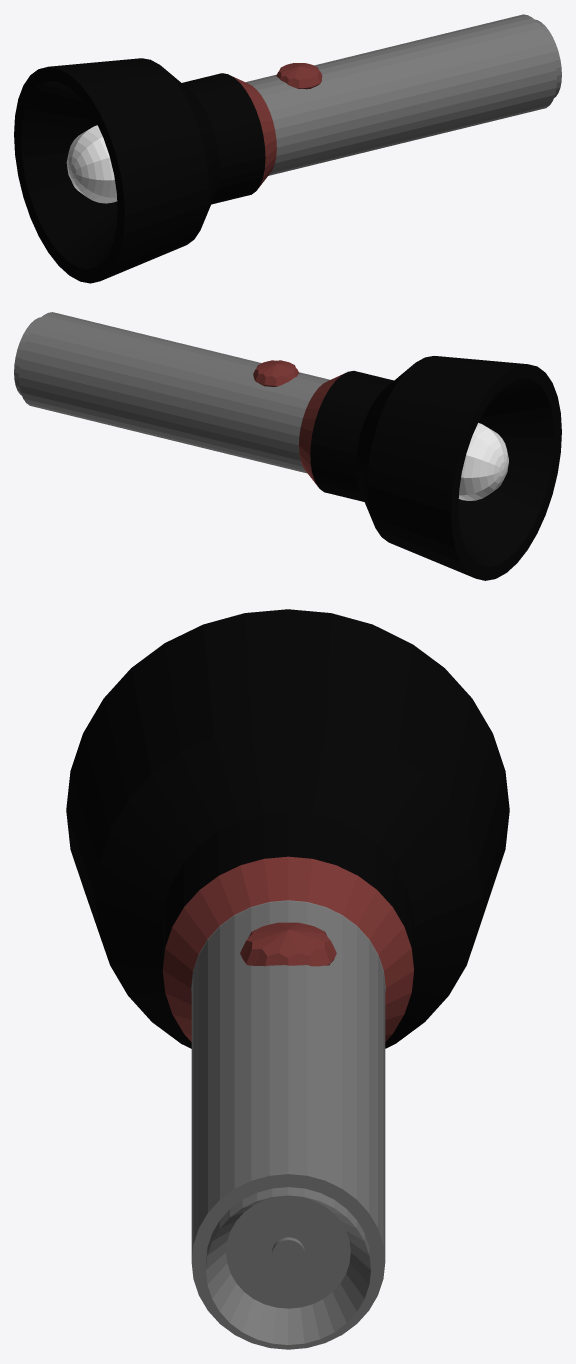
Rendered from Flashlight.fbx.
The picture shows the model from 3 angles, top to bottom: view 1: azimuth 30°, elevation 25°; view 2: azimuth 150°, elevation 25°; view 3: azimuth 270°, elevation 25°; orthographic projection. The views are drawn at different scales.
Visible parts, largest first — view 1: Flashlight Lens, Flashlight Body, Flashlight Bulb, Flashlight Connector, Indicator Button; view 2: Flashlight Lens, Flashlight Body, Flashlight Bulb, Flashlight Connector, Indicator Button; view 3: Flashlight Lens, Flashlight Body, Flashlight Connector, Indicator Button.
Boxes of the visible parts, bbox=[...] form: Flashlight Lens: bbox=[14, 58, 265, 283]; Flashlight Body: bbox=[246, 14, 561, 175]; Flashlight Bulb: bbox=[66, 125, 117, 203]; Flashlight Connector: bbox=[232, 76, 276, 189]; Indicator Button: bbox=[276, 63, 322, 89]; Flashlight Lens: bbox=[310, 356, 561, 580]; Flashlight Body: bbox=[14, 312, 329, 473]; Flashlight Bulb: bbox=[458, 423, 508, 500]; Flashlight Connector: bbox=[299, 373, 344, 486]; Indicator Button: bbox=[253, 360, 299, 386]; Flashlight Lens: bbox=[66, 609, 509, 1048]; Flashlight Body: bbox=[191, 900, 385, 1349]; Flashlight Connector: bbox=[162, 856, 413, 1041]; Indicator Button: bbox=[240, 922, 336, 966].
Bounding box in the file's own units: 1124 × 458 × 458.
